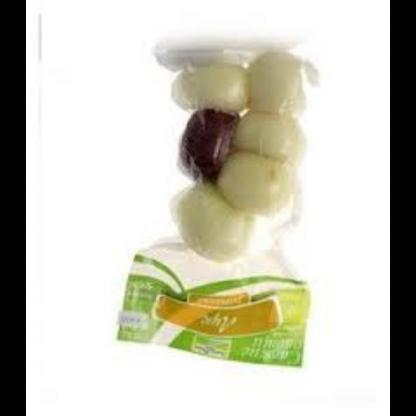onion: (151, 52, 328, 282)
